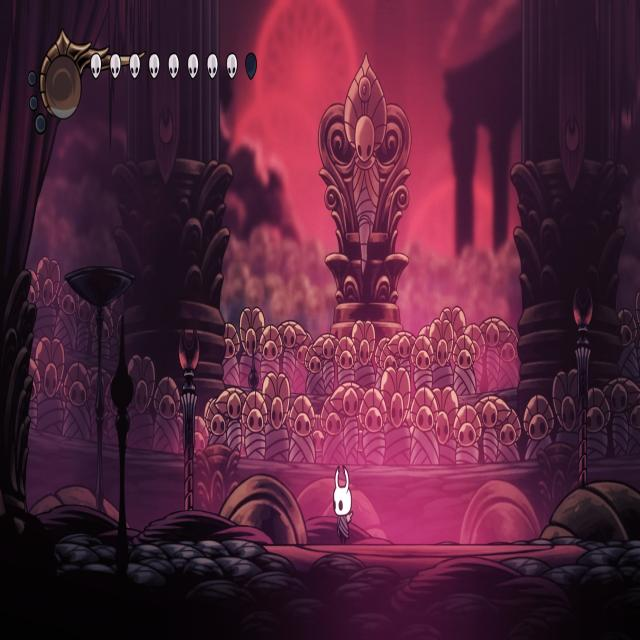Player: (332, 461, 355, 546)
